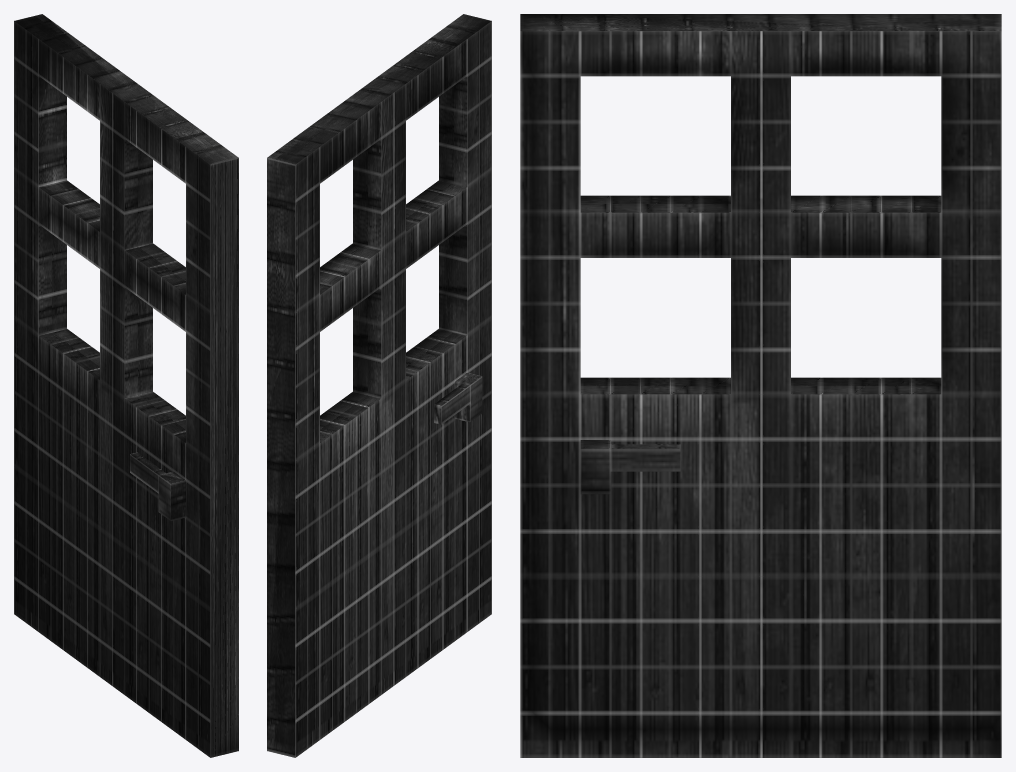
Rendered from BP-door.fbx.
3 views of the same model, side by side, from view 1: azimuth 30°, elevation 25°; view 2: azimuth 150°, elevation 25°; view 3: azimuth 270°, elevation 25° (orthographic). The views are drawn at different scales.
Parts seen in each view (by area): view 1: pCube1; view 2: pCube1; view 3: pCube1.
Boxes of the visible parts, x1,y1,x2,y2 form: pCube1: (14,14,238,757); pCube1: (267,14,491,757); pCube1: (520,14,1001,757).
Size of the model in its own units: 1.03 by 10 by 6.
Materials: 1 (1 with a texture image).
